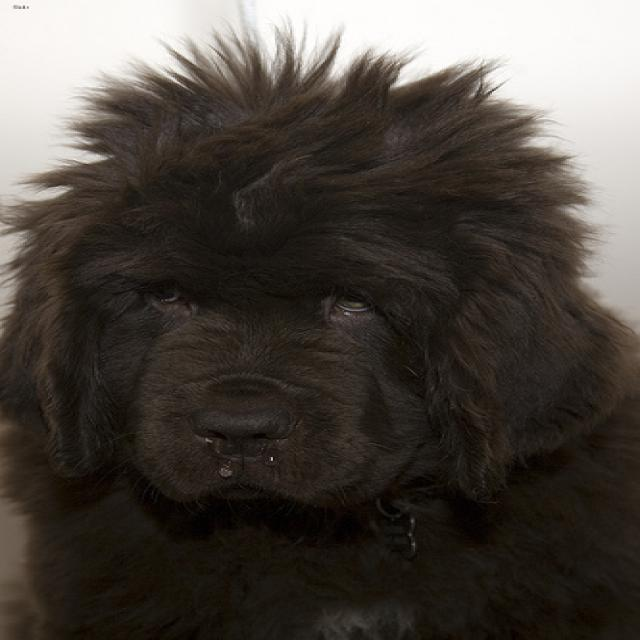dog-newfoundland: (2, 17, 636, 637)
